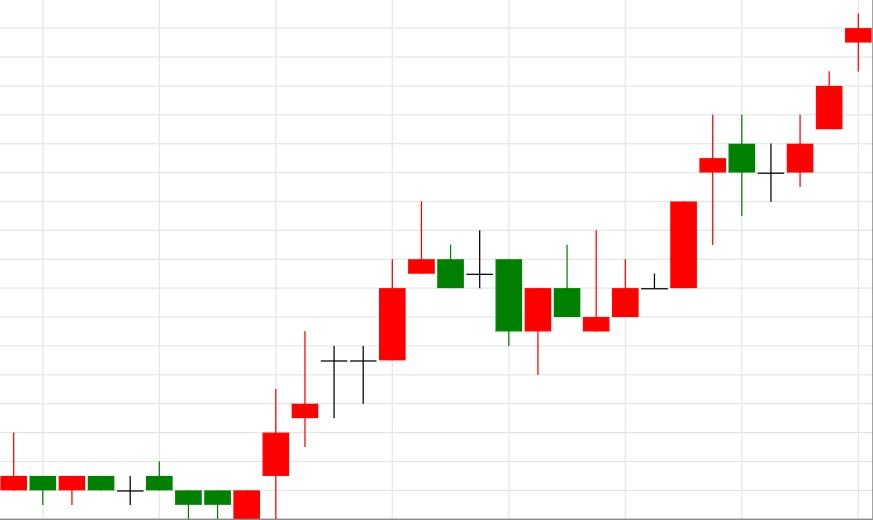bullish_engulfing_rise: (0, 432, 261, 520)
three_white_soldiers_rise: (0, 331, 320, 520)
